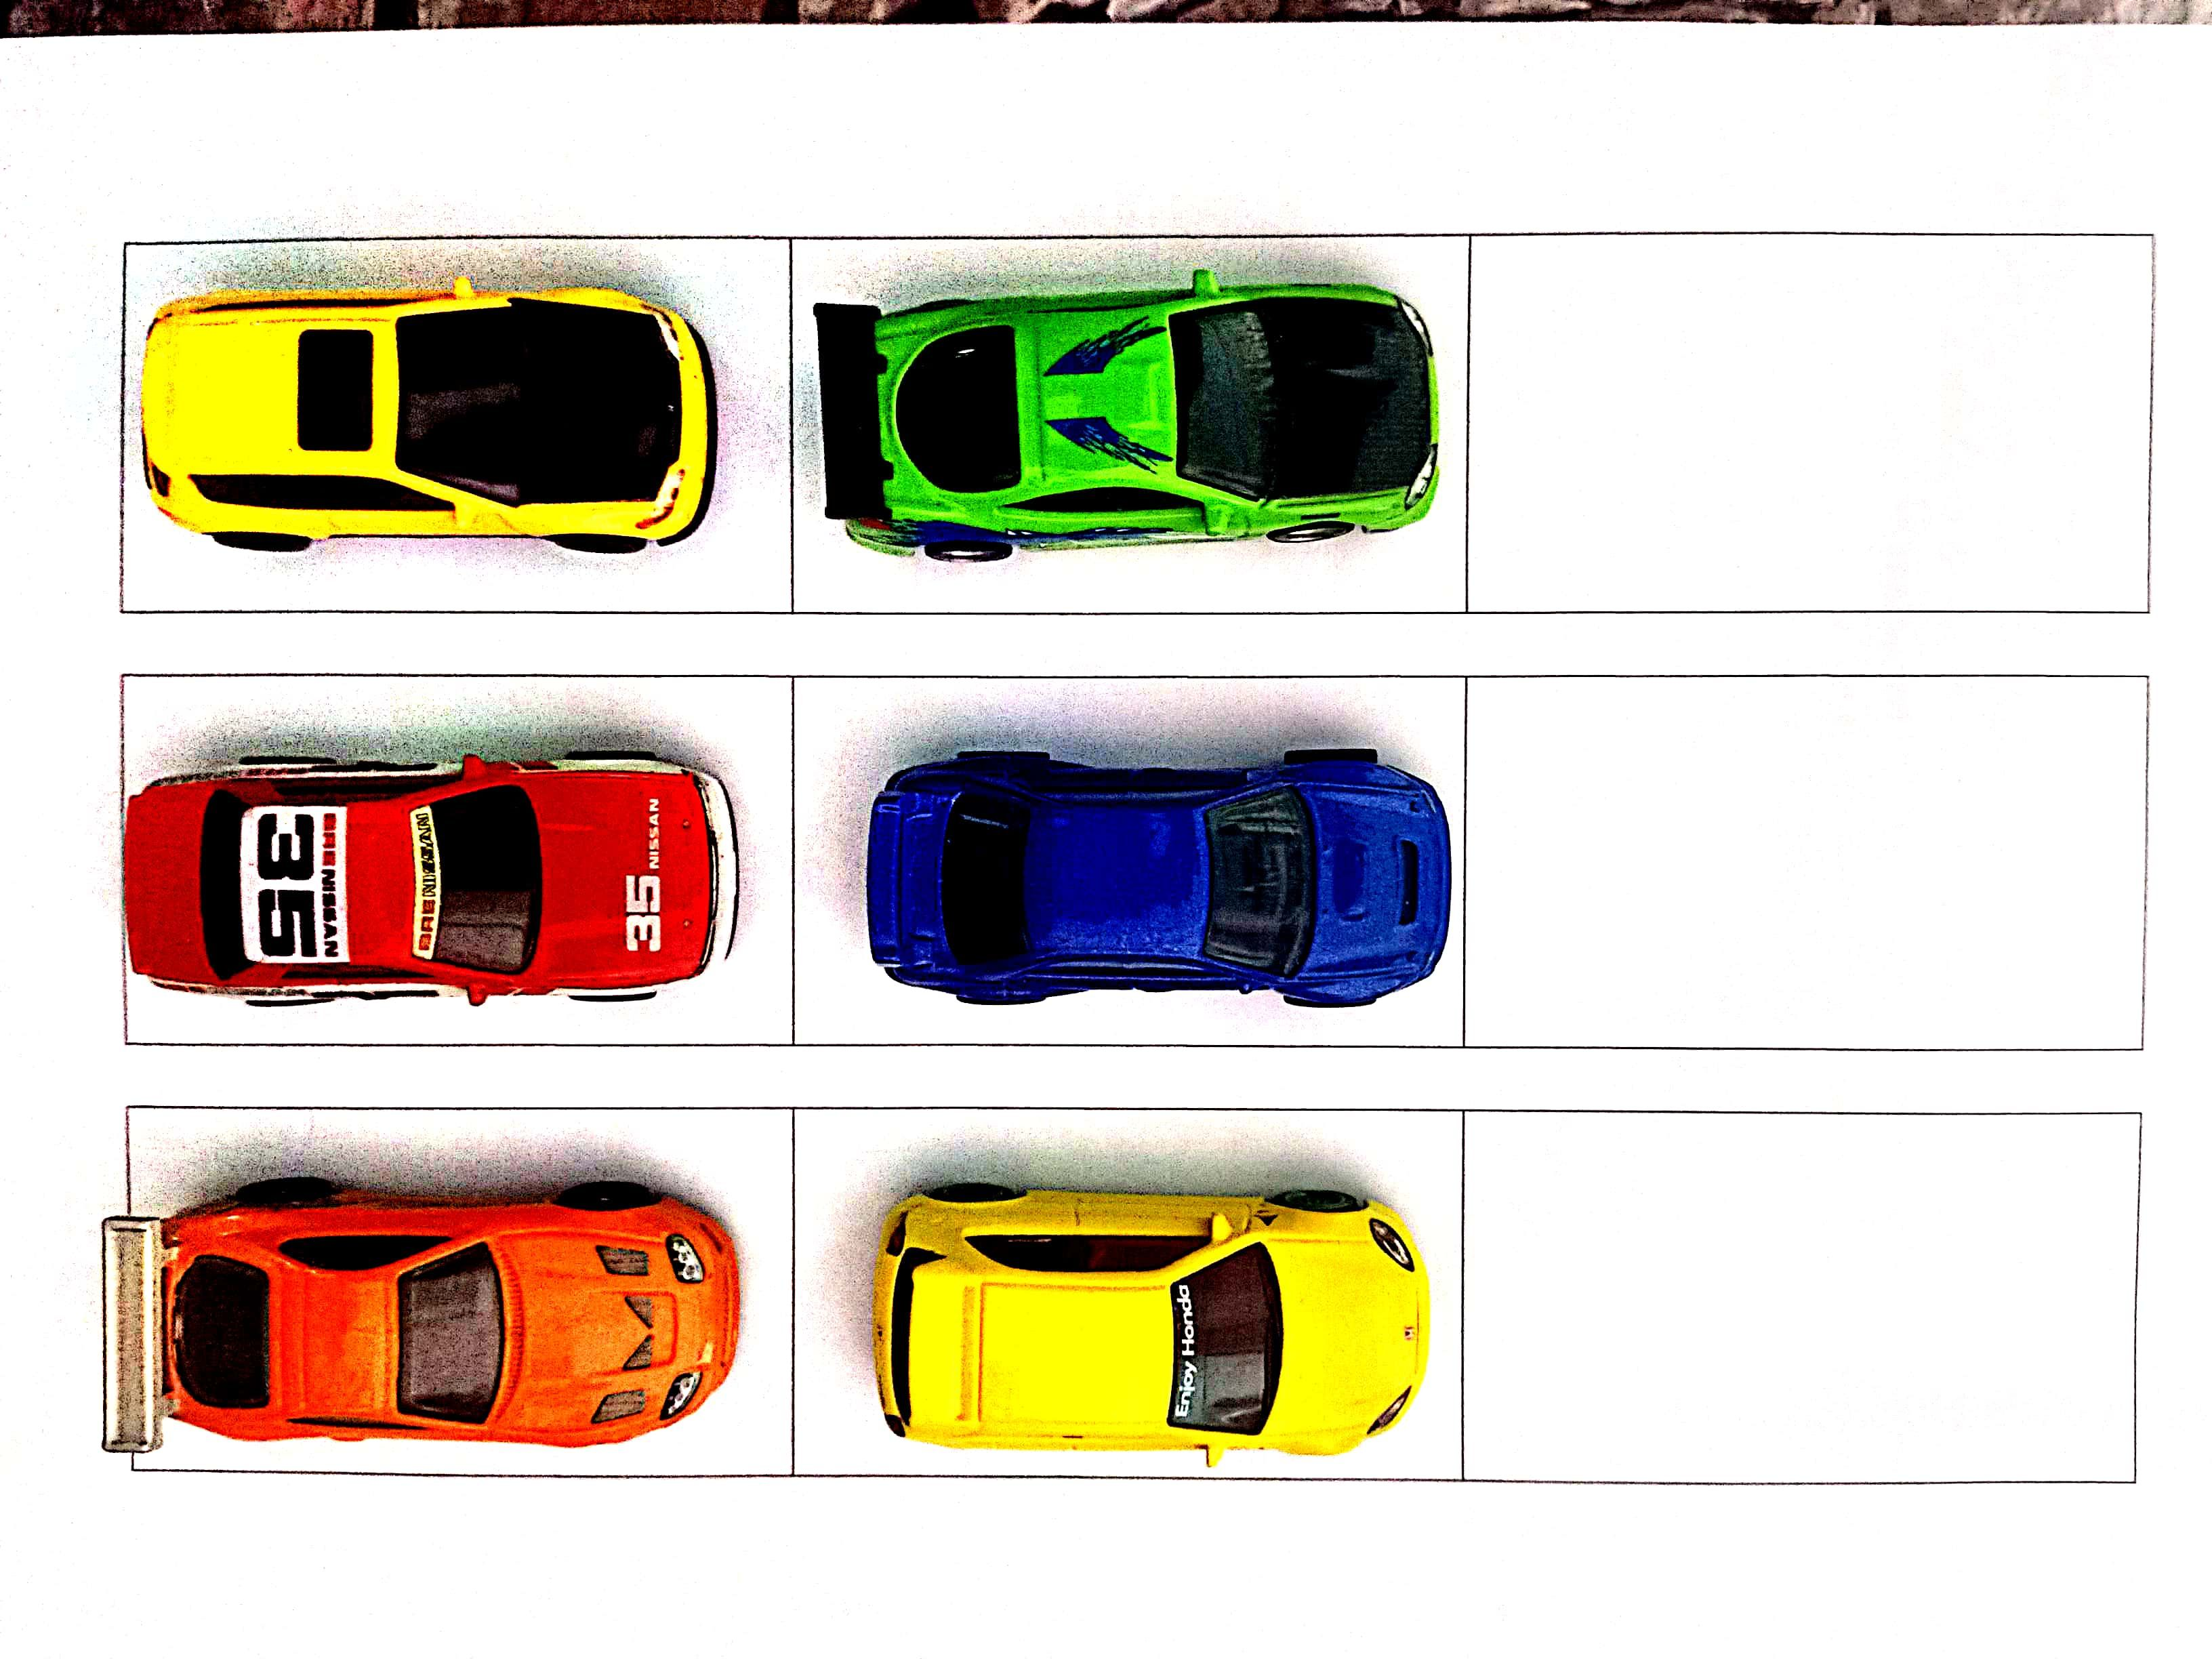Busy: (794, 234, 1472, 619), (122, 240, 791, 615), (798, 680, 1467, 1049), (125, 680, 791, 1046), (798, 1114, 1463, 1480), (125, 1107, 791, 1469)
Free: (1467, 239, 2158, 619), (1467, 664, 2142, 1053), (1461, 1108, 2139, 1473)
